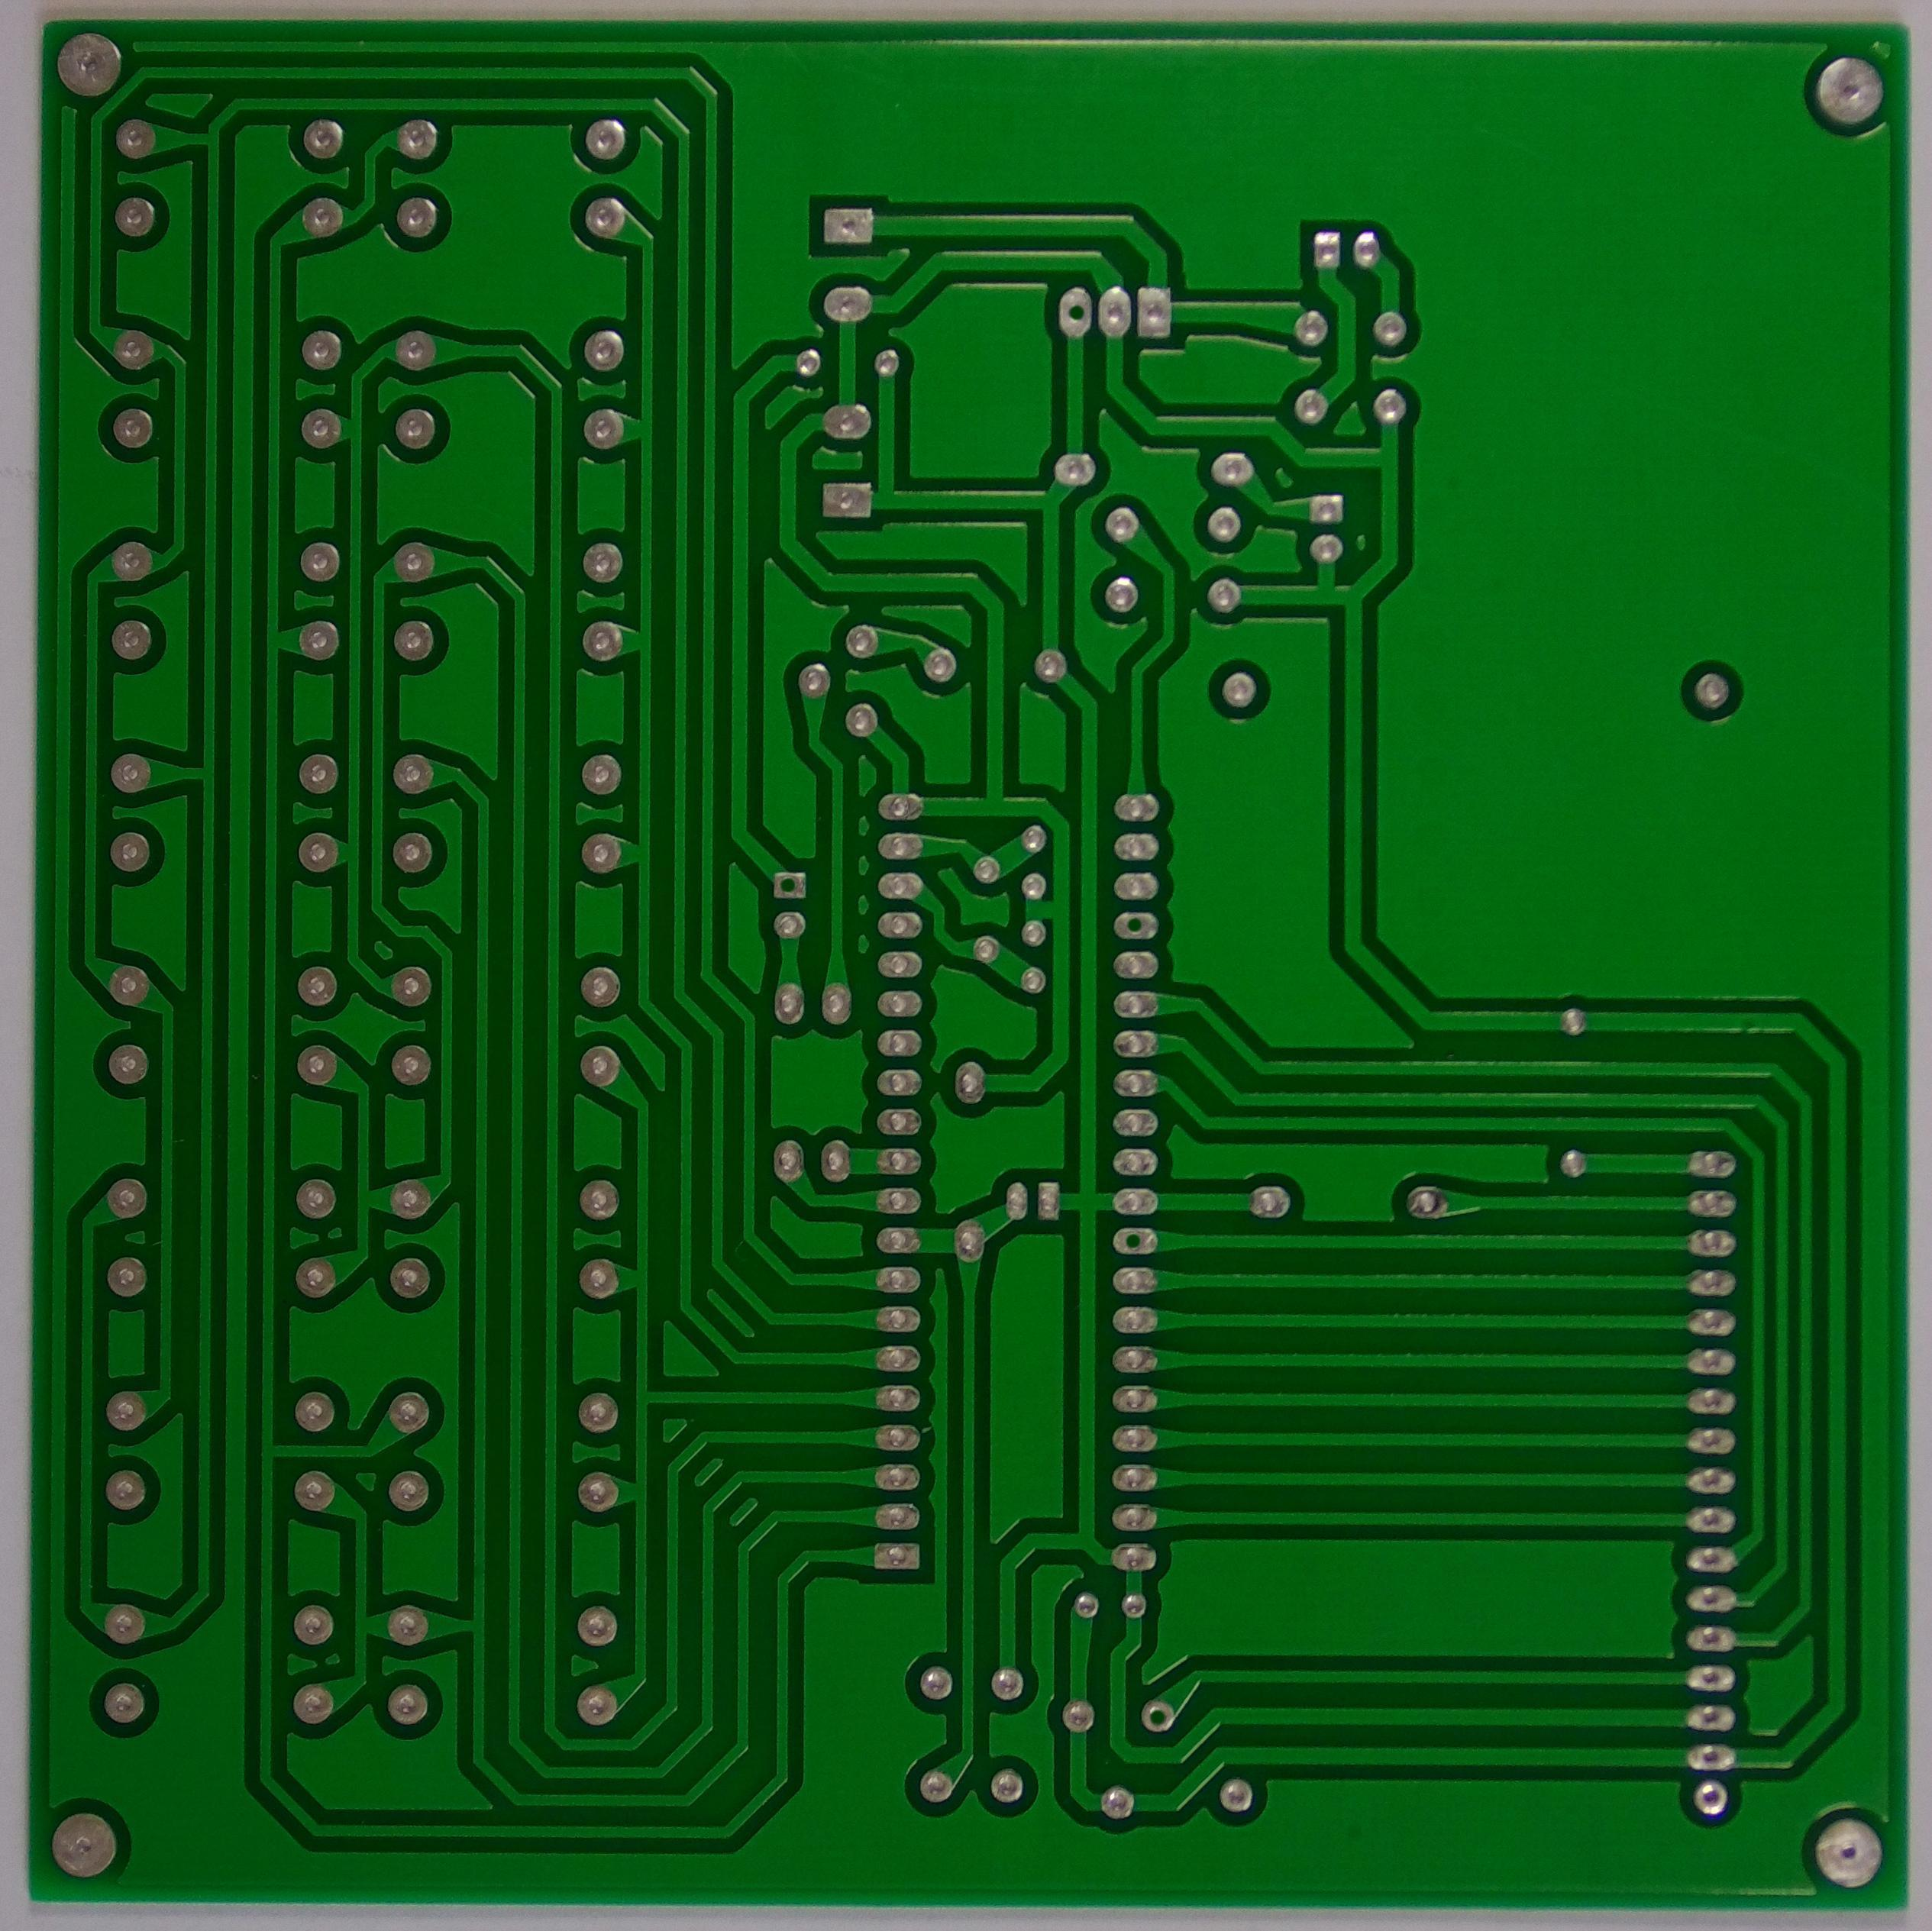missing_hole: (1058, 278, 1099, 348), (1109, 907, 1162, 948), (1111, 1222, 1159, 1261), (1136, 1694, 1180, 1735), (770, 865, 805, 904)
